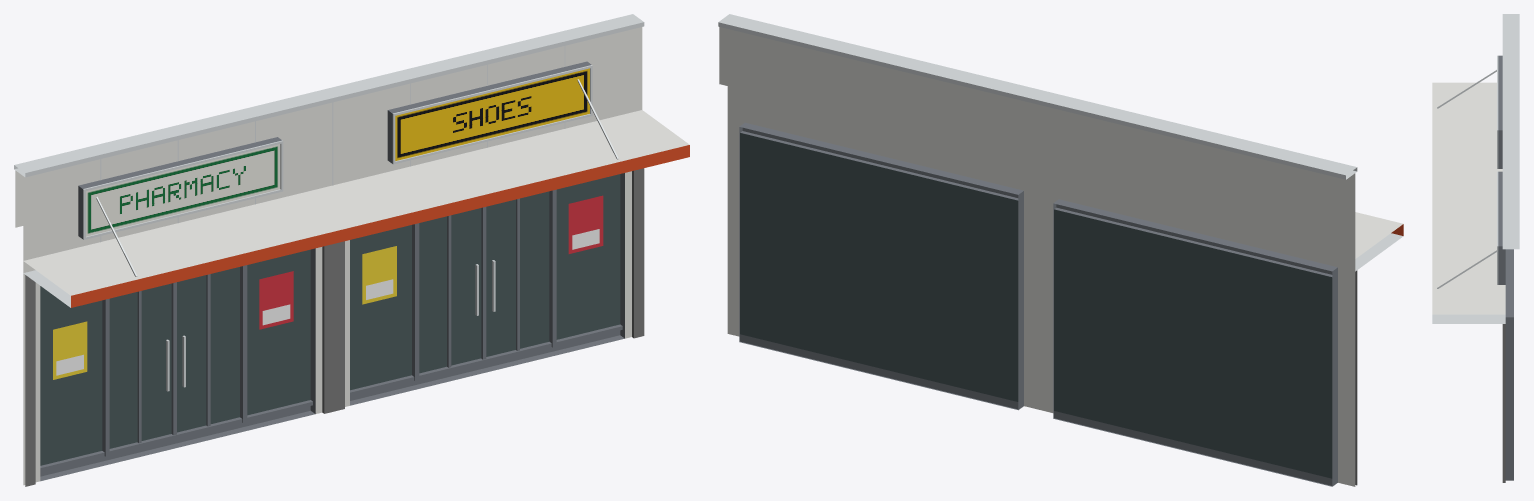
The model's file is base-w1_close.fbx.
3 views of the same model, side by side, from view 1: azimuth 30°, elevation 25°; view 2: azimuth 150°, elevation 25°; view 3: azimuth 270°, elevation 25° (orthographic). The views are drawn at different scales.
Visible parts, largest first — view 1: a2003/400/base-w1_close; view 2: a2003/400/base-w1_close; view 3: a2003/400/base-w1_close.
Boxes of the visible parts, x1,y1,x2,y2 form: a2003/400/base-w1_close: (14, 14, 689, 486); a2003/400/base-w1_close: (718, 14, 1403, 486); a2003/400/base-w1_close: (1432, 14, 1519, 482).
Size of the model in its own units: 9 by 4.36 by 1.43.
